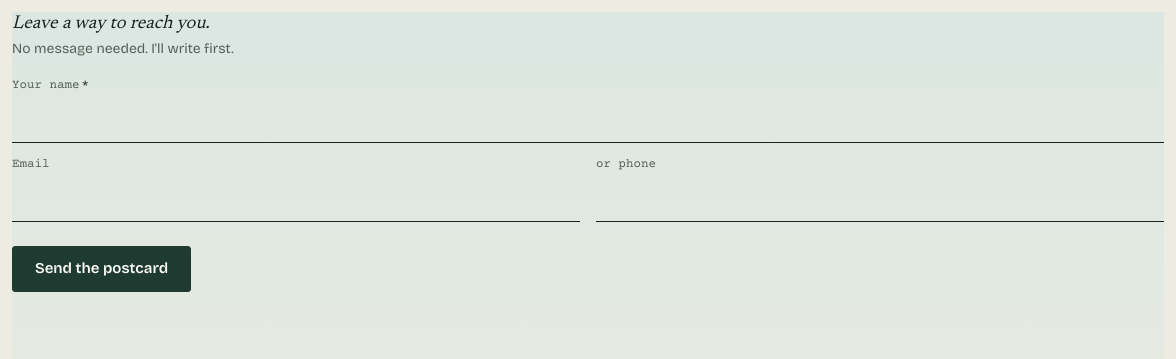
Scenario: the lead form › shows the paired error once, on both fields, and sends nothing when neither is given
In the field labelled "Your name*": (588, 121) 12,99 -> 1164,143, type "Jamie"
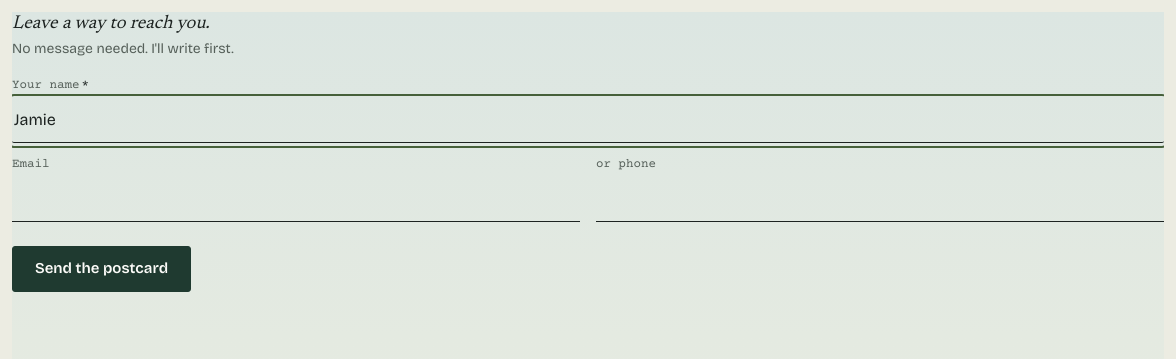
Click the button "Send the postcard": (102, 269) 12,246 -> 191,292
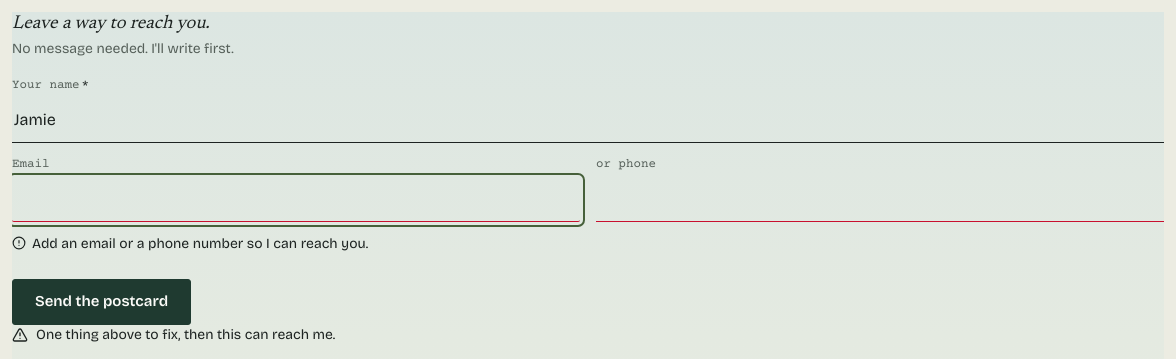
Now the text "Add an email or a phone number so I can reach you." is shown once, box 32,234 -> 368,254
